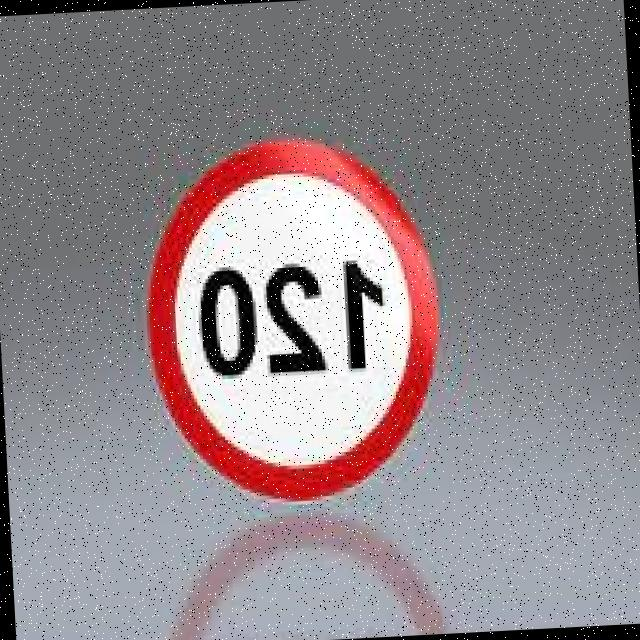speed_limit_120: (119, 129, 456, 512)
